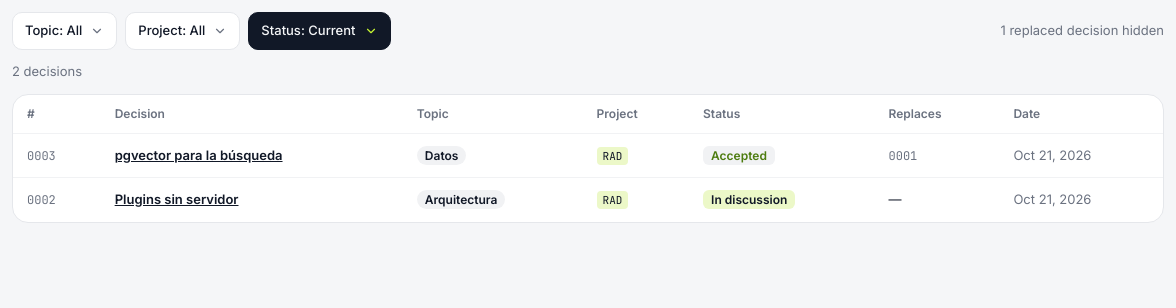
Test case: DecisionsTable › shows replaced ones when asked, and filters by topic
Click the button "Status: Current" at (320, 31), box left=248, top=12, right=391, bottom=50
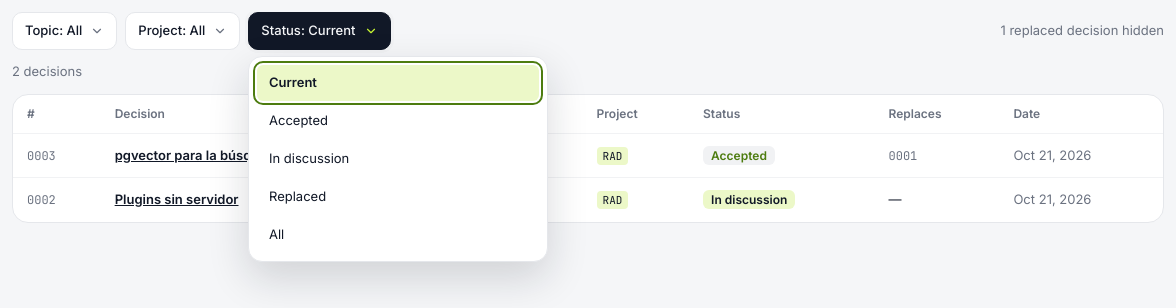
Click the menu item "All" at (277, 234), box left=257, top=217, right=539, bottom=253
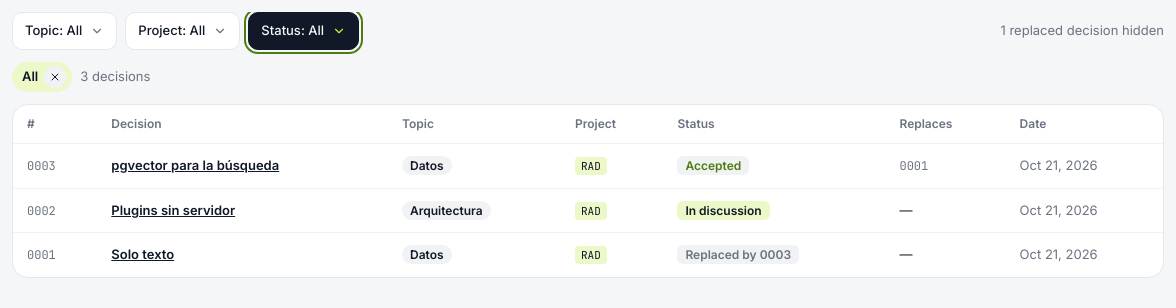
expect the text "Replaced by 0003" is shown: met, box left=677, top=245, right=799, bottom=264
Click the button "Topic: All" at (65, 31), box left=12, top=12, right=117, bottom=50
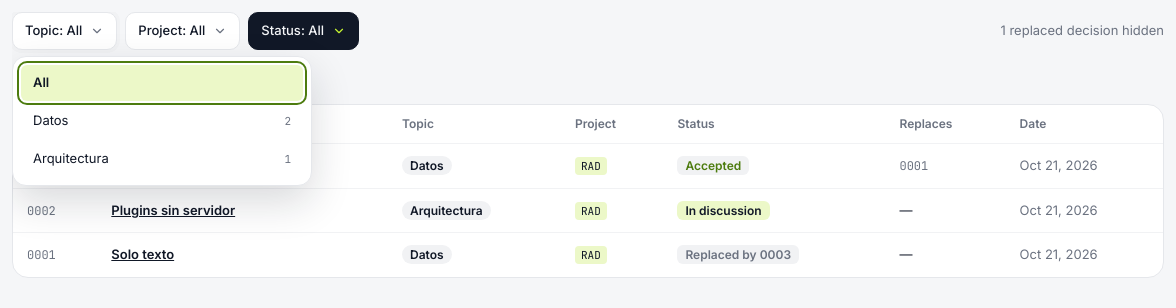
Click the menu item "Arquitectura 1" at (71, 158), box left=21, top=141, right=303, bottom=177
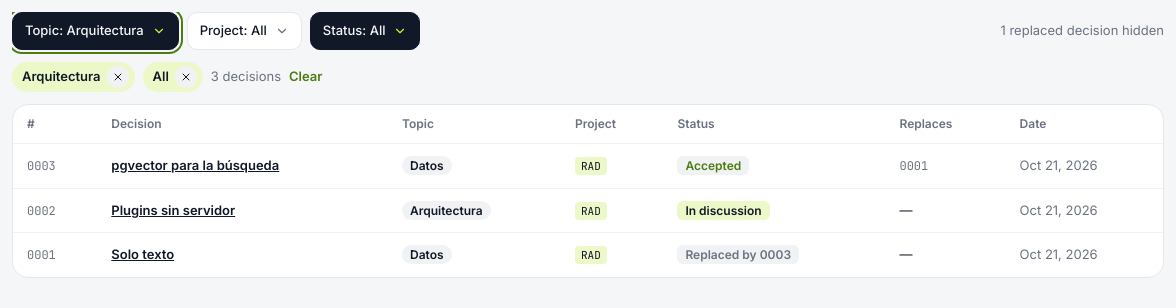
expect the button named "Remove Arquitectura" is shown: met, box left=107, top=66, right=129, bottom=88
